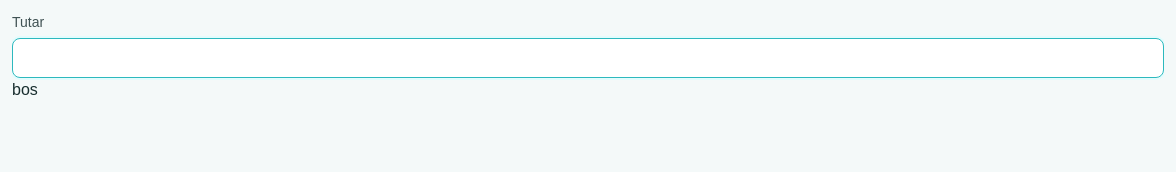
tutar girişi › hem virgül hem NOKTA ondalık kabul edilir
Later steps or results of the test are not shown.
Step 1. Type "1" into the field labelled "Tutar" → (588, 58), box x1=12 y1=38 x2=1164 y2=78
Step 2. Replace the text in the field labelled "Tutar" with "12" → (588, 58), box x1=12 y1=38 x2=1164 y2=78
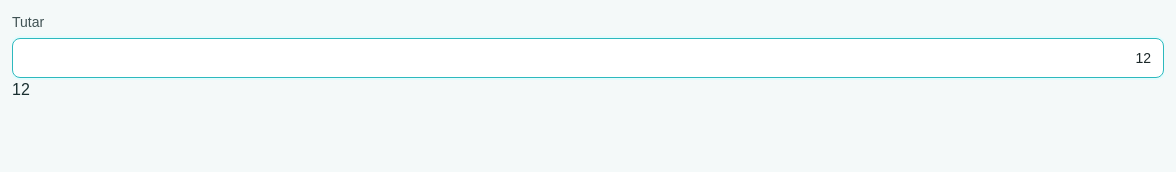
Step 3. Replace the text in the field labelled "Tutar" with "123" → (588, 58), box x1=12 y1=38 x2=1164 y2=78
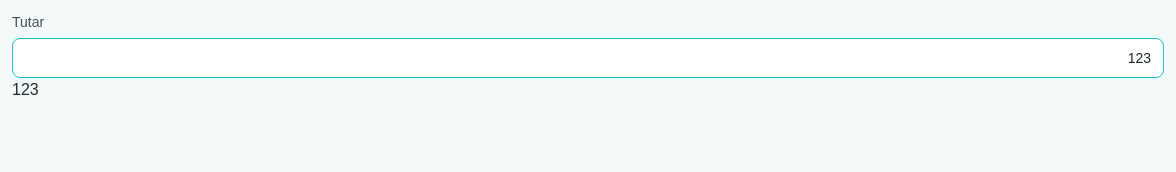
Step 4. Replace the text in the field labelled "Tutar" with "1234" → (588, 58), box x1=12 y1=38 x2=1164 y2=78
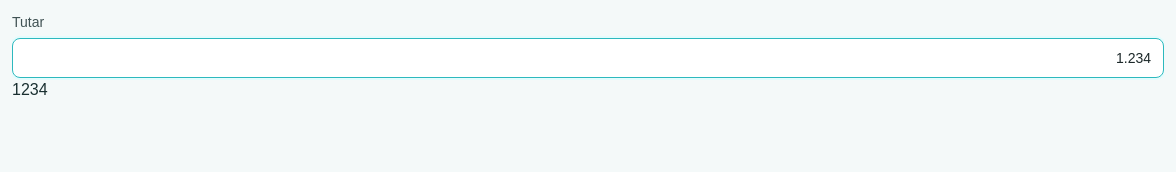
Step 5. Replace the text in the field labelled "Tutar" with "1.234," → (588, 58), box x1=12 y1=38 x2=1164 y2=78
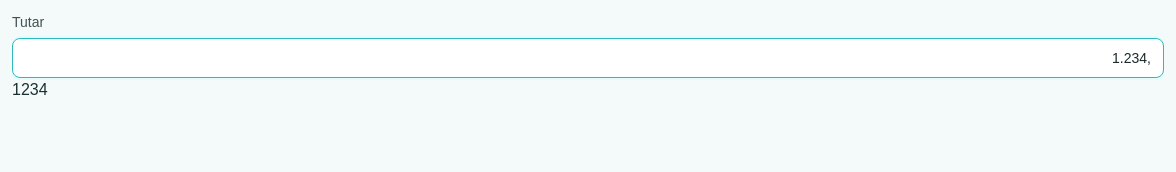
Step 6. Replace the text in the field labelled "Tutar" with "1.234,5" → (588, 58), box x1=12 y1=38 x2=1164 y2=78
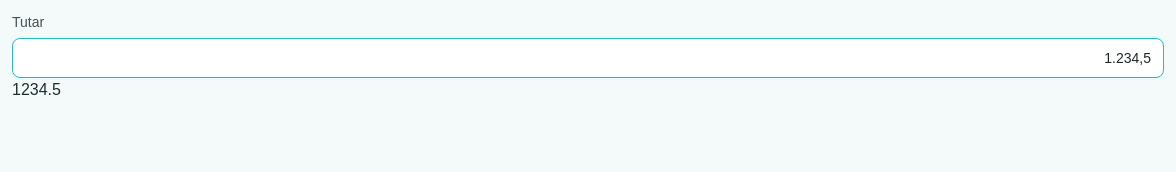
Check: the text with test id "ham" reads "1234.5", box x1=12 y1=81 x2=61 y2=98
Step 7. Leave the field labelled "Tutar", box x1=12 y1=38 x2=1164 y2=78
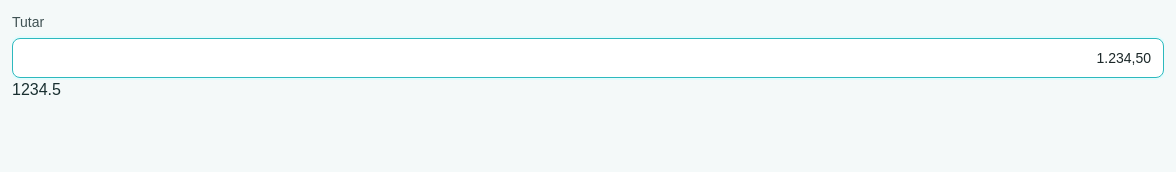
Check: the field labelled "Tutar" holds "1.234,50", box x1=12 y1=38 x2=1164 y2=78
